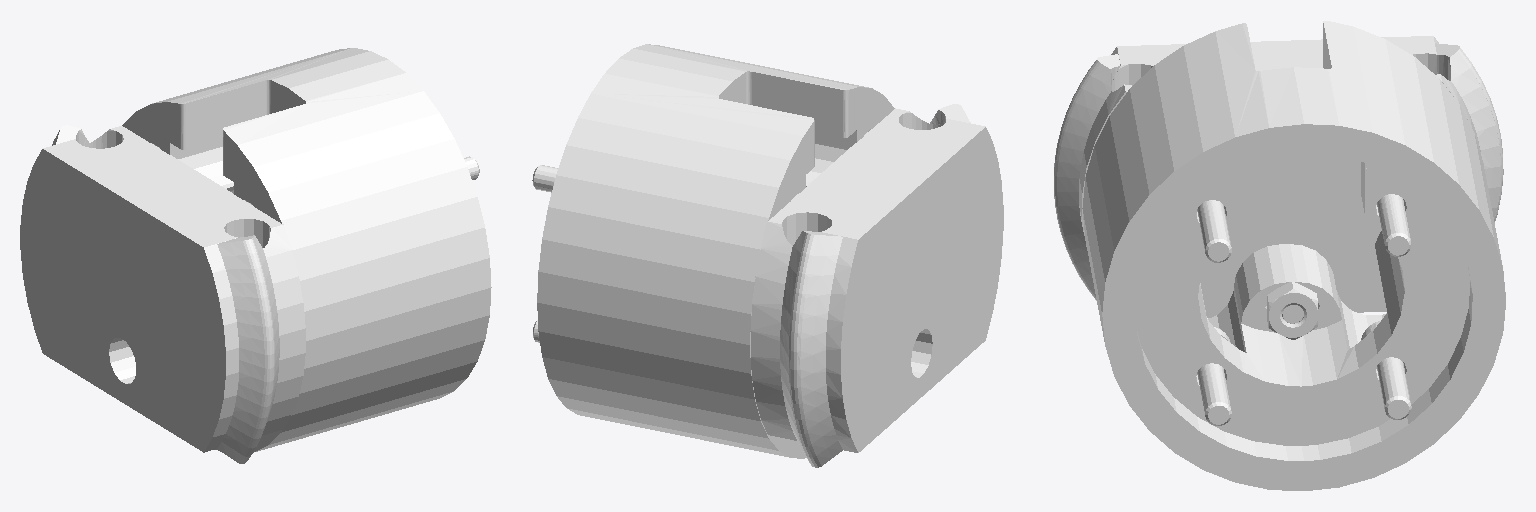
robot.urdf — 宇树L6连接001.SLDASM:
<?xml version="1.0" encoding="utf-8"?>
<!-- This URDF was automatically created by SolidWorks to URDF Exporter! Originally created by Stephen Brawner (brawner@gmail.com) 
     Commit Version: 1.6.0-4-g7f85cfe  Build Version: 1.6.7995.38578
     For more information, please see http://wiki.ros.org/sw_urdf_exporter -->
<robot
  name="宇树L6连接001.SLDASM">
  <link
    name="base_link">
    <inertial>
      <origin
        xyz="8.38644193650882 0.98425333099143 -0.321728280503399"
        rpy="0 0 0" />
      <mass
        value="0.0388754856381894" />
      <inertia
        ixx="1.11285813596862E-05"
        ixy="-1.24675957025975E-07"
        ixz="-3.59508234957696E-07"
        iyy="8.36189104764469E-06"
        iyz="4.29781622877737E-09"
        izz="6.67987440144183E-06" />
    </inertial>
    <visual>
      <origin
        xyz="0 0 0"
        rpy="0 0 0" />
      <geometry>
        <mesh
          filename="package://宇树L6连接001.SLDASM/meshes/base_link.STL" />
      </geometry>
      <material
        name="">
        <color
          rgba="1 1 1 1" />
      </material>
    </visual>
    <collision>
      <origin
        xyz="0 0 0"
        rpy="0 0 0" />
      <geometry>
        <mesh
          filename="package://宇树L6连接001.SLDASM/meshes/base_link.STL" />
      </geometry>
    </collision>
  </link>
</robot>

--- Render facts (derived) ---
The picture shows the robot from 3 angles, left to right: view 1: azimuth 30°, elevation 25°; view 2: azimuth 150°, elevation 25°; view 3: azimuth 270°, elevation 25°; orthographic projection.
Robot: 宇树L6连接001.SLDASM — 1 links, 0 joints (none); root link base_link; default pose: all joints at 0.
Visible links, largest first — view 1: base_link; view 2: base_link; view 3: base_link.
Link boxes in pixels (left/top/right/bottom): base_link: left=20, top=48, right=491, bottom=463; base_link: left=532, top=44, right=1003, bottom=467; base_link: left=1054, top=21, right=1505, bottom=490.
Size in the robot's own frame: 0.0484 by 0.0503 by 0.045 metres.
1 mesh visuals loaded from 1 distinct referenced files (1 binary STL).
